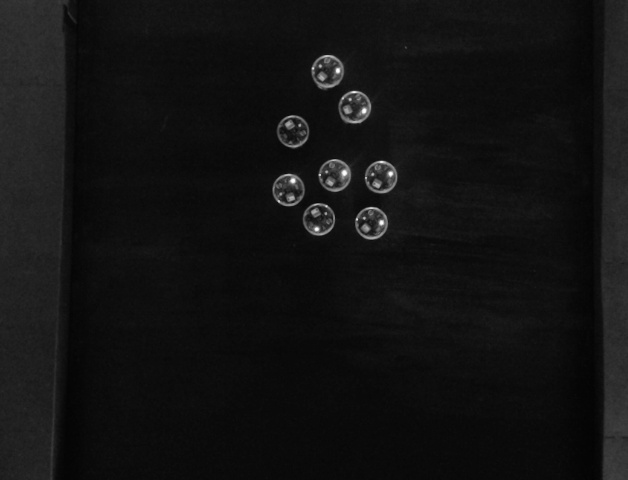epuck_2: (310, 54, 344, 90), (277, 112, 311, 148), (365, 157, 397, 195), (270, 173, 304, 207), (318, 157, 351, 191), (354, 209, 390, 240), (338, 92, 372, 124), (301, 205, 335, 236)
